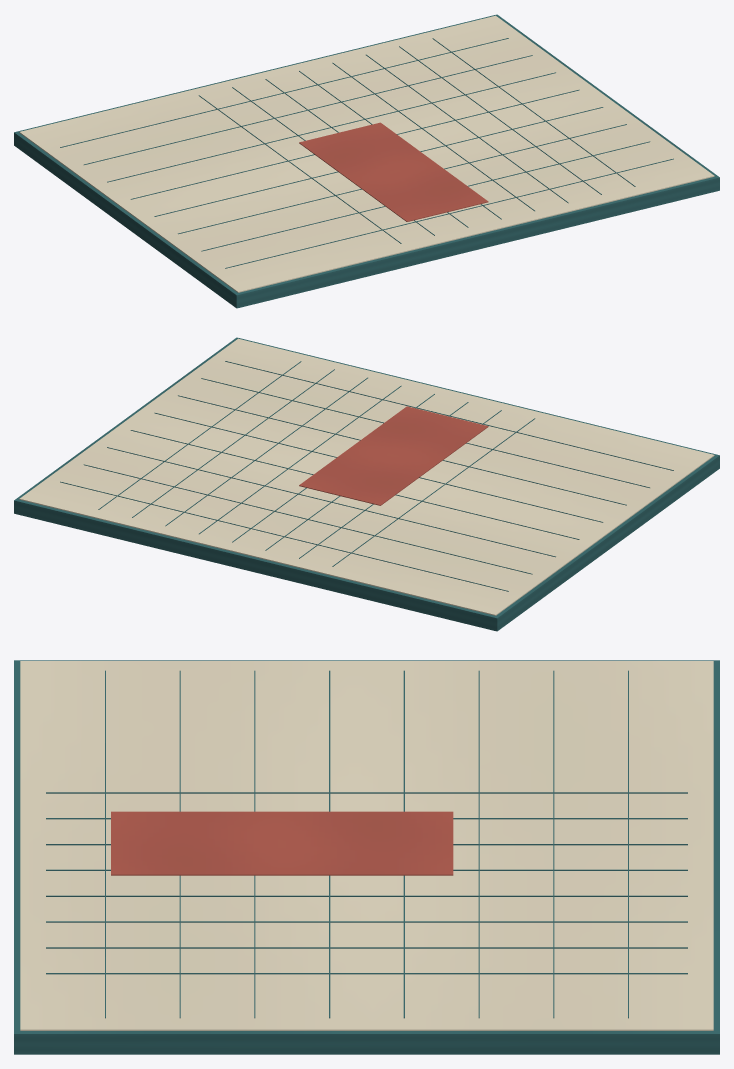
The model's file is atlas100-s032-a07.lod1.glb.
3 views of the same model, one above another, from view 1: azimuth 30°, elevation 25°; view 2: azimuth 150°, elevation 25°; view 3: azimuth 270°, elevation 25° (orthographic). The views are drawn at different scales.
Parts seen in each view (by area): view 1: atlas100-s032-a07:part-001, atlas100-s032-a07:part-000, atlas100-s032-a07:part-021, atlas100-s032-a07:part-015, atlas100-s032-a07:part-014, atlas100-s032-a07:part-013, atlas100-s032-a07:part-020, atlas100-s032-a07:part-019, atlas100-s032-a07:part-017, atlas100-s032-a07:part-016, atlas100-s032-a07:part-018; view 2: atlas100-s032-a07:part-001, atlas100-s032-a07:part-000, atlas100-s032-a07:part-021, atlas100-s032-a07:part-014, atlas100-s032-a07:part-013, atlas100-s032-a07:part-020, atlas100-s032-a07:part-015, atlas100-s032-a07:part-016, atlas100-s032-a07:part-019, atlas100-s032-a07:part-018, atlas100-s032-a07:part-017; view 3: atlas100-s032-a07:part-001, atlas100-s032-a07:part-000, atlas100-s032-a07:part-021, atlas100-s032-a07:part-005, atlas100-s032-a07:part-009, atlas100-s032-a07:part-010, atlas100-s032-a07:part-011, atlas100-s032-a07:part-012, atlas100-s032-a07:part-014, atlas100-s032-a07:part-015.
Boxes of the visible parts, bbox=[...] form: atlas100-s032-a07:part-001: bbox=[19, 15, 714, 292]; atlas100-s032-a07:part-000: bbox=[14, 14, 719, 308]; atlas100-s032-a07:part-021: bbox=[299, 122, 488, 221]; atlas100-s032-a07:part-015: bbox=[107, 72, 555, 182]; atlas100-s032-a07:part-014: bbox=[84, 55, 532, 164]; atlas100-s032-a07:part-013: bbox=[60, 38, 508, 147]; atlas100-s032-a07:part-020: bbox=[225, 158, 673, 268]; atlas100-s032-a07:part-019: bbox=[201, 141, 650, 251]; atlas100-s032-a07:part-017: bbox=[154, 107, 603, 216]; atlas100-s032-a07:part-016: bbox=[130, 89, 579, 199]; atlas100-s032-a07:part-018: bbox=[178, 124, 626, 234]; atlas100-s032-a07:part-001: bbox=[19, 338, 714, 615]; atlas100-s032-a07:part-000: bbox=[14, 337, 719, 631]; atlas100-s032-a07:part-021: bbox=[299, 406, 488, 505]; atlas100-s032-a07:part-014: bbox=[83, 464, 532, 574]; atlas100-s032-a07:part-013: bbox=[60, 481, 508, 591]; atlas100-s032-a07:part-020: bbox=[225, 361, 673, 470]; atlas100-s032-a07:part-015: bbox=[107, 447, 555, 557]; atlas100-s032-a07:part-016: bbox=[130, 430, 579, 539]; atlas100-s032-a07:part-019: bbox=[201, 378, 649, 487]; atlas100-s032-a07:part-018: bbox=[178, 395, 626, 505]; atlas100-s032-a07:part-017: bbox=[154, 412, 603, 522]; atlas100-s032-a07:part-001: bbox=[20, 661, 713, 1030]; atlas100-s032-a07:part-000: bbox=[14, 660, 719, 1054]; atlas100-s032-a07:part-021: bbox=[111, 811, 453, 875]; atlas100-s032-a07:part-005: bbox=[46, 792, 687, 793]; atlas100-s032-a07:part-009: bbox=[46, 895, 687, 896]; atlas100-s032-a07:part-010: bbox=[46, 921, 687, 922]; atlas100-s032-a07:part-011: bbox=[46, 947, 687, 948]; atlas100-s032-a07:part-012: bbox=[46, 973, 687, 974]; atlas100-s032-a07:part-014: bbox=[553, 670, 554, 1018]; atlas100-s032-a07:part-015: bbox=[478, 670, 479, 1018].
Bounding box in the file's own units: 13.02 × 0.404 × 10.4.
Materials: 3 (3 with a texture image).
